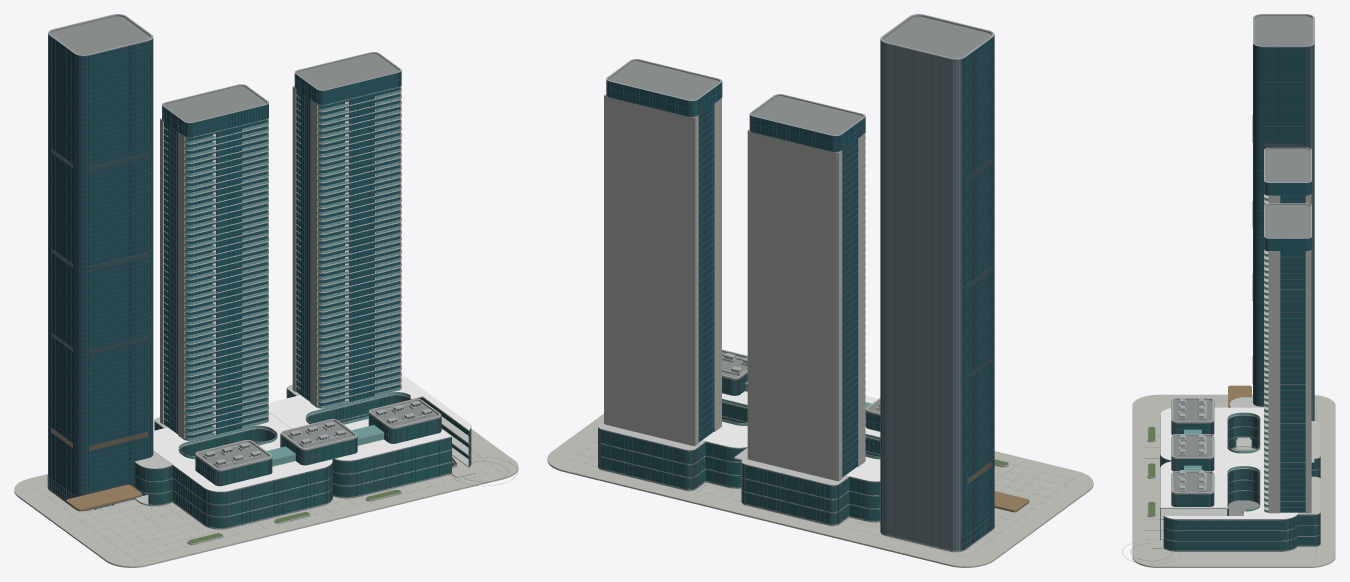
The model's file is detail.glb.
3 views of the same model, side by side, from view 1: azimuth 30°, elevation 25°; view 2: azimuth 150°, elevation 25°; view 3: azimuth 270°, elevation 25° (orthographic). The views are drawn at different scales.
Parts seen in each view (by area): view 1: OFFICE mullion channel spine, OFFICE finite blue glazing, RESIDENTIAL MID recessed balcony glass, RESIDENTIAL MID recessed structure slabs, RESIDENTIAL MID finite balcony guards, PODIUM 1 external storefront glass, PODIUM east passage paving, OFFICE neutral foundation plinth, OFFICE crown coping, OFFICE neutral roof CLOSURE_HOLD, PODIUM 1 procedural roof paving finish, OFFICE louver recessed backing NOT_INTERIOR (+2 smaller); view 2: OFFICE neutral foundation plinth, OFFICE local rear neutral CLOSURE_HOLD panels, OFFICE mullion channel spine, OFFICE finite blue glazing, PODIUM east passage paving, RESIDENTIAL MID recessed balcony glass, PODIUM 1 external storefront glass, OFFICE neutral roof CLOSURE_HOLD, RESIDENTIAL MID recessed structure slabs, OFFICE louver recessed backing NOT_INTERIOR, OFFICE crown coping, PODIUM 1 procedural roof paving finish; view 3: OFFICE mullion channel spine, PODIUM east passage paving, OFFICE finite blue glazing, RESIDENTIAL MID recessed balcony glass, PODIUM 1 external storefront glass, OFFICE neutral foundation plinth, OFFICE neutral roof CLOSURE_HOLD, PODIUM 1 procedural roof paving finish, RESIDENTIAL MID recessed structure slabs, OFFICE crown coping, OFFICE louver recessed backing NOT_INTERIOR, RESIDENTIAL MID finite balcony guards (+5 smaller).
Boxes of the visible parts, x1,y1,x2,y2 form: OFFICE mullion channel spine: (47, 34, 471, 528); OFFICE finite blue glazing: (49, 36, 153, 501); RESIDENTIAL MID recessed balcony glass: (162, 72, 401, 438); RESIDENTIAL MID recessed structure slabs: (135, 86, 470, 529); RESIDENTIAL MID finite balcony guards: (178, 88, 456, 466); PODIUM 1 external storefront glass: (134, 391, 469, 527); PODIUM east passage paving: (14, 429, 518, 567); OFFICE neutral foundation plinth: (48, 86, 469, 544); OFFICE crown coping: (48, 14, 457, 468); OFFICE neutral roof CLOSURE_HOLD: (50, 15, 438, 468); PODIUM 1 procedural roof paving finish: (153, 376, 470, 491); OFFICE louver recessed backing NOT_INTERIOR: (90, 98, 348, 445); OFFICE neutral foundation plinth: (599, 94, 1009, 552); OFFICE local rear neutral CLOSURE_HOLD panels: (881, 42, 961, 550); OFFICE mullion channel spine: (598, 34, 994, 551); OFFICE finite blue glazing: (961, 37, 993, 549); PODIUM east passage paving: (547, 413, 1093, 567); RESIDENTIAL MID recessed balcony glass: (606, 80, 864, 477); PODIUM 1 external storefront glass: (600, 374, 880, 524); OFFICE neutral roof CLOSURE_HOLD: (608, 15, 992, 412); RESIDENTIAL MID recessed structure slabs: (598, 98, 879, 525); OFFICE louver recessed backing NOT_INTERIOR: (698, 110, 856, 470); OFFICE crown coping: (606, 14, 994, 460); PODIUM 1 procedural roof paving finish: (702, 391, 880, 481); OFFICE mullion channel spine: (1160, 18, 1320, 551); PODIUM east passage paving: (1132, 394, 1335, 567); OFFICE finite blue glazing: (1253, 44, 1309, 406); RESIDENTIAL MID recessed balcony glass: (1264, 182, 1311, 512); PODIUM 1 external storefront glass: (1160, 416, 1319, 550); OFFICE neutral foundation plinth: (1147, 194, 1319, 551); OFFICE neutral roof CLOSURE_HOLD: (1173, 15, 1312, 492); PODIUM 1 procedural roof paving finish: (1160, 407, 1297, 519); RESIDENTIAL MID recessed structure slabs: (1160, 194, 1320, 551); OFFICE crown coping: (1179, 14, 1314, 512); OFFICE louver recessed backing NOT_INTERIOR: (1280, 200, 1305, 507); RESIDENTIAL MID finite balcony guards: (1184, 194, 1268, 512).
Size of the model in its own units: 94 by 100 by 49.3.
